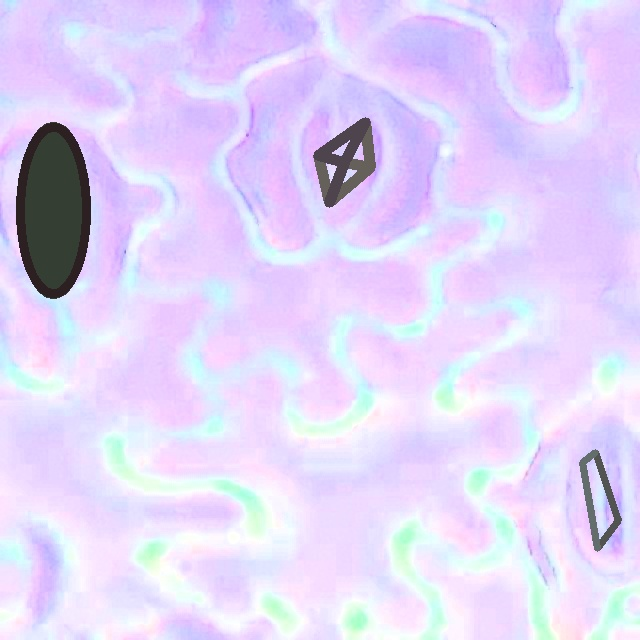close: (314, 117, 375, 207)
open: (16, 122, 90, 298), (580, 450, 620, 551)
